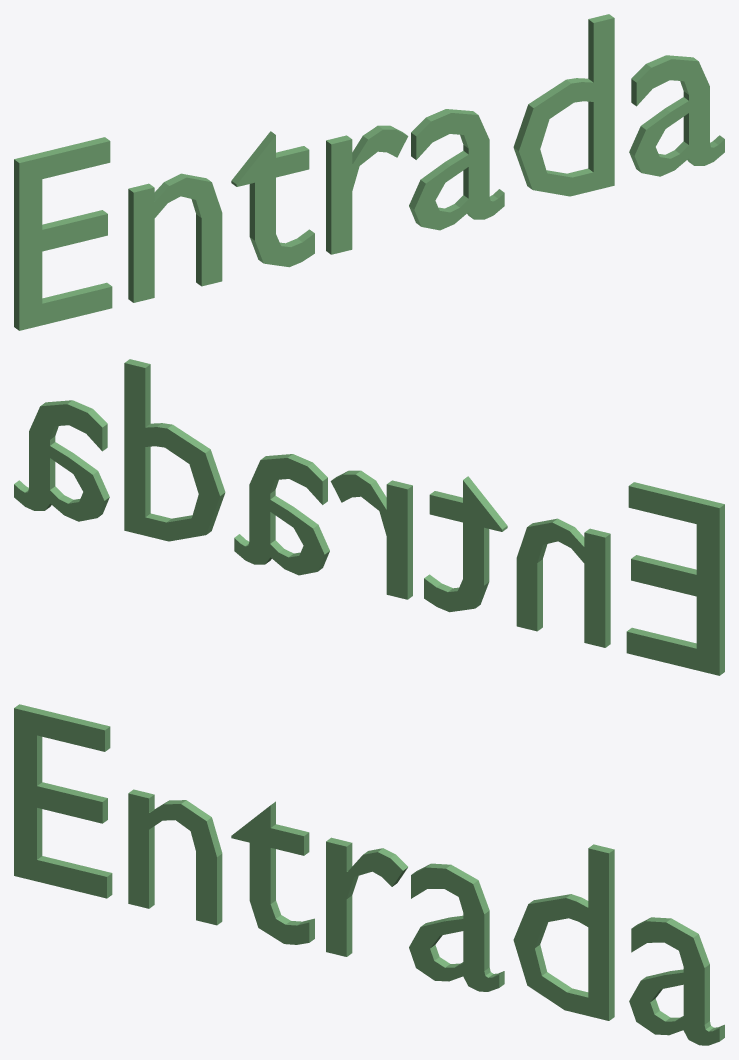
File: Letrero.fbx
3 renders of one model, top to bottom at view 1: azimuth 30°, elevation 25°; view 2: azimuth 150°, elevation 25°; view 3: azimuth 330°, elevation 25°, orthographic.
Parts seen in each view (by area): view 1: Text; view 2: Text; view 3: Text.
Boxes of the visible parts, x1,y1,x2,y2 form: Text: (14,14,724,330); Text: (14,359,724,675); Text: (14,704,724,1045).
Size of the model in its own units: 131 by 30.27 by 1.74.
